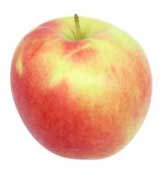apple: (8, 17, 155, 161)
